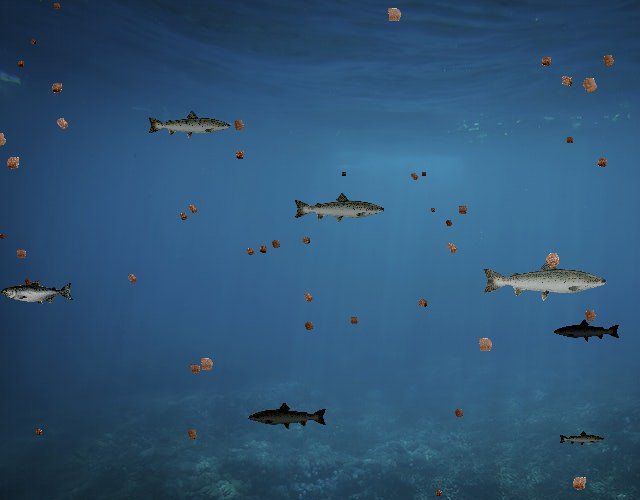Fish: (480, 256, 609, 302), (293, 192, 387, 226), (146, 109, 232, 140), (247, 402, 328, 431), (2, 280, 75, 306), (554, 319, 622, 343), (559, 430, 606, 447)
Pellet: (565, 469, 593, 497), (50, 111, 75, 136), (449, 404, 468, 423), (432, 486, 446, 500), (32, 425, 46, 439), (27, 35, 39, 47)
